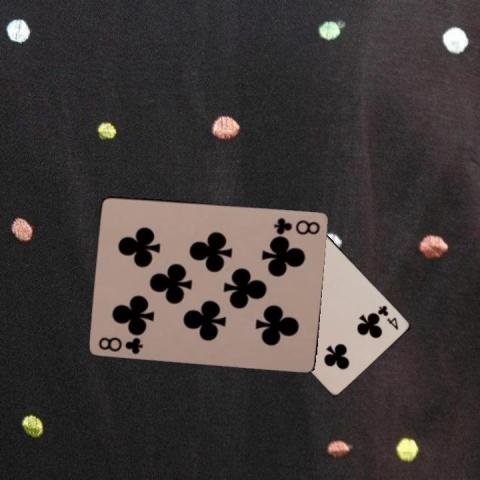4c: (375, 303, 400, 331)
8c: (96, 333, 145, 356), (271, 215, 322, 236)
